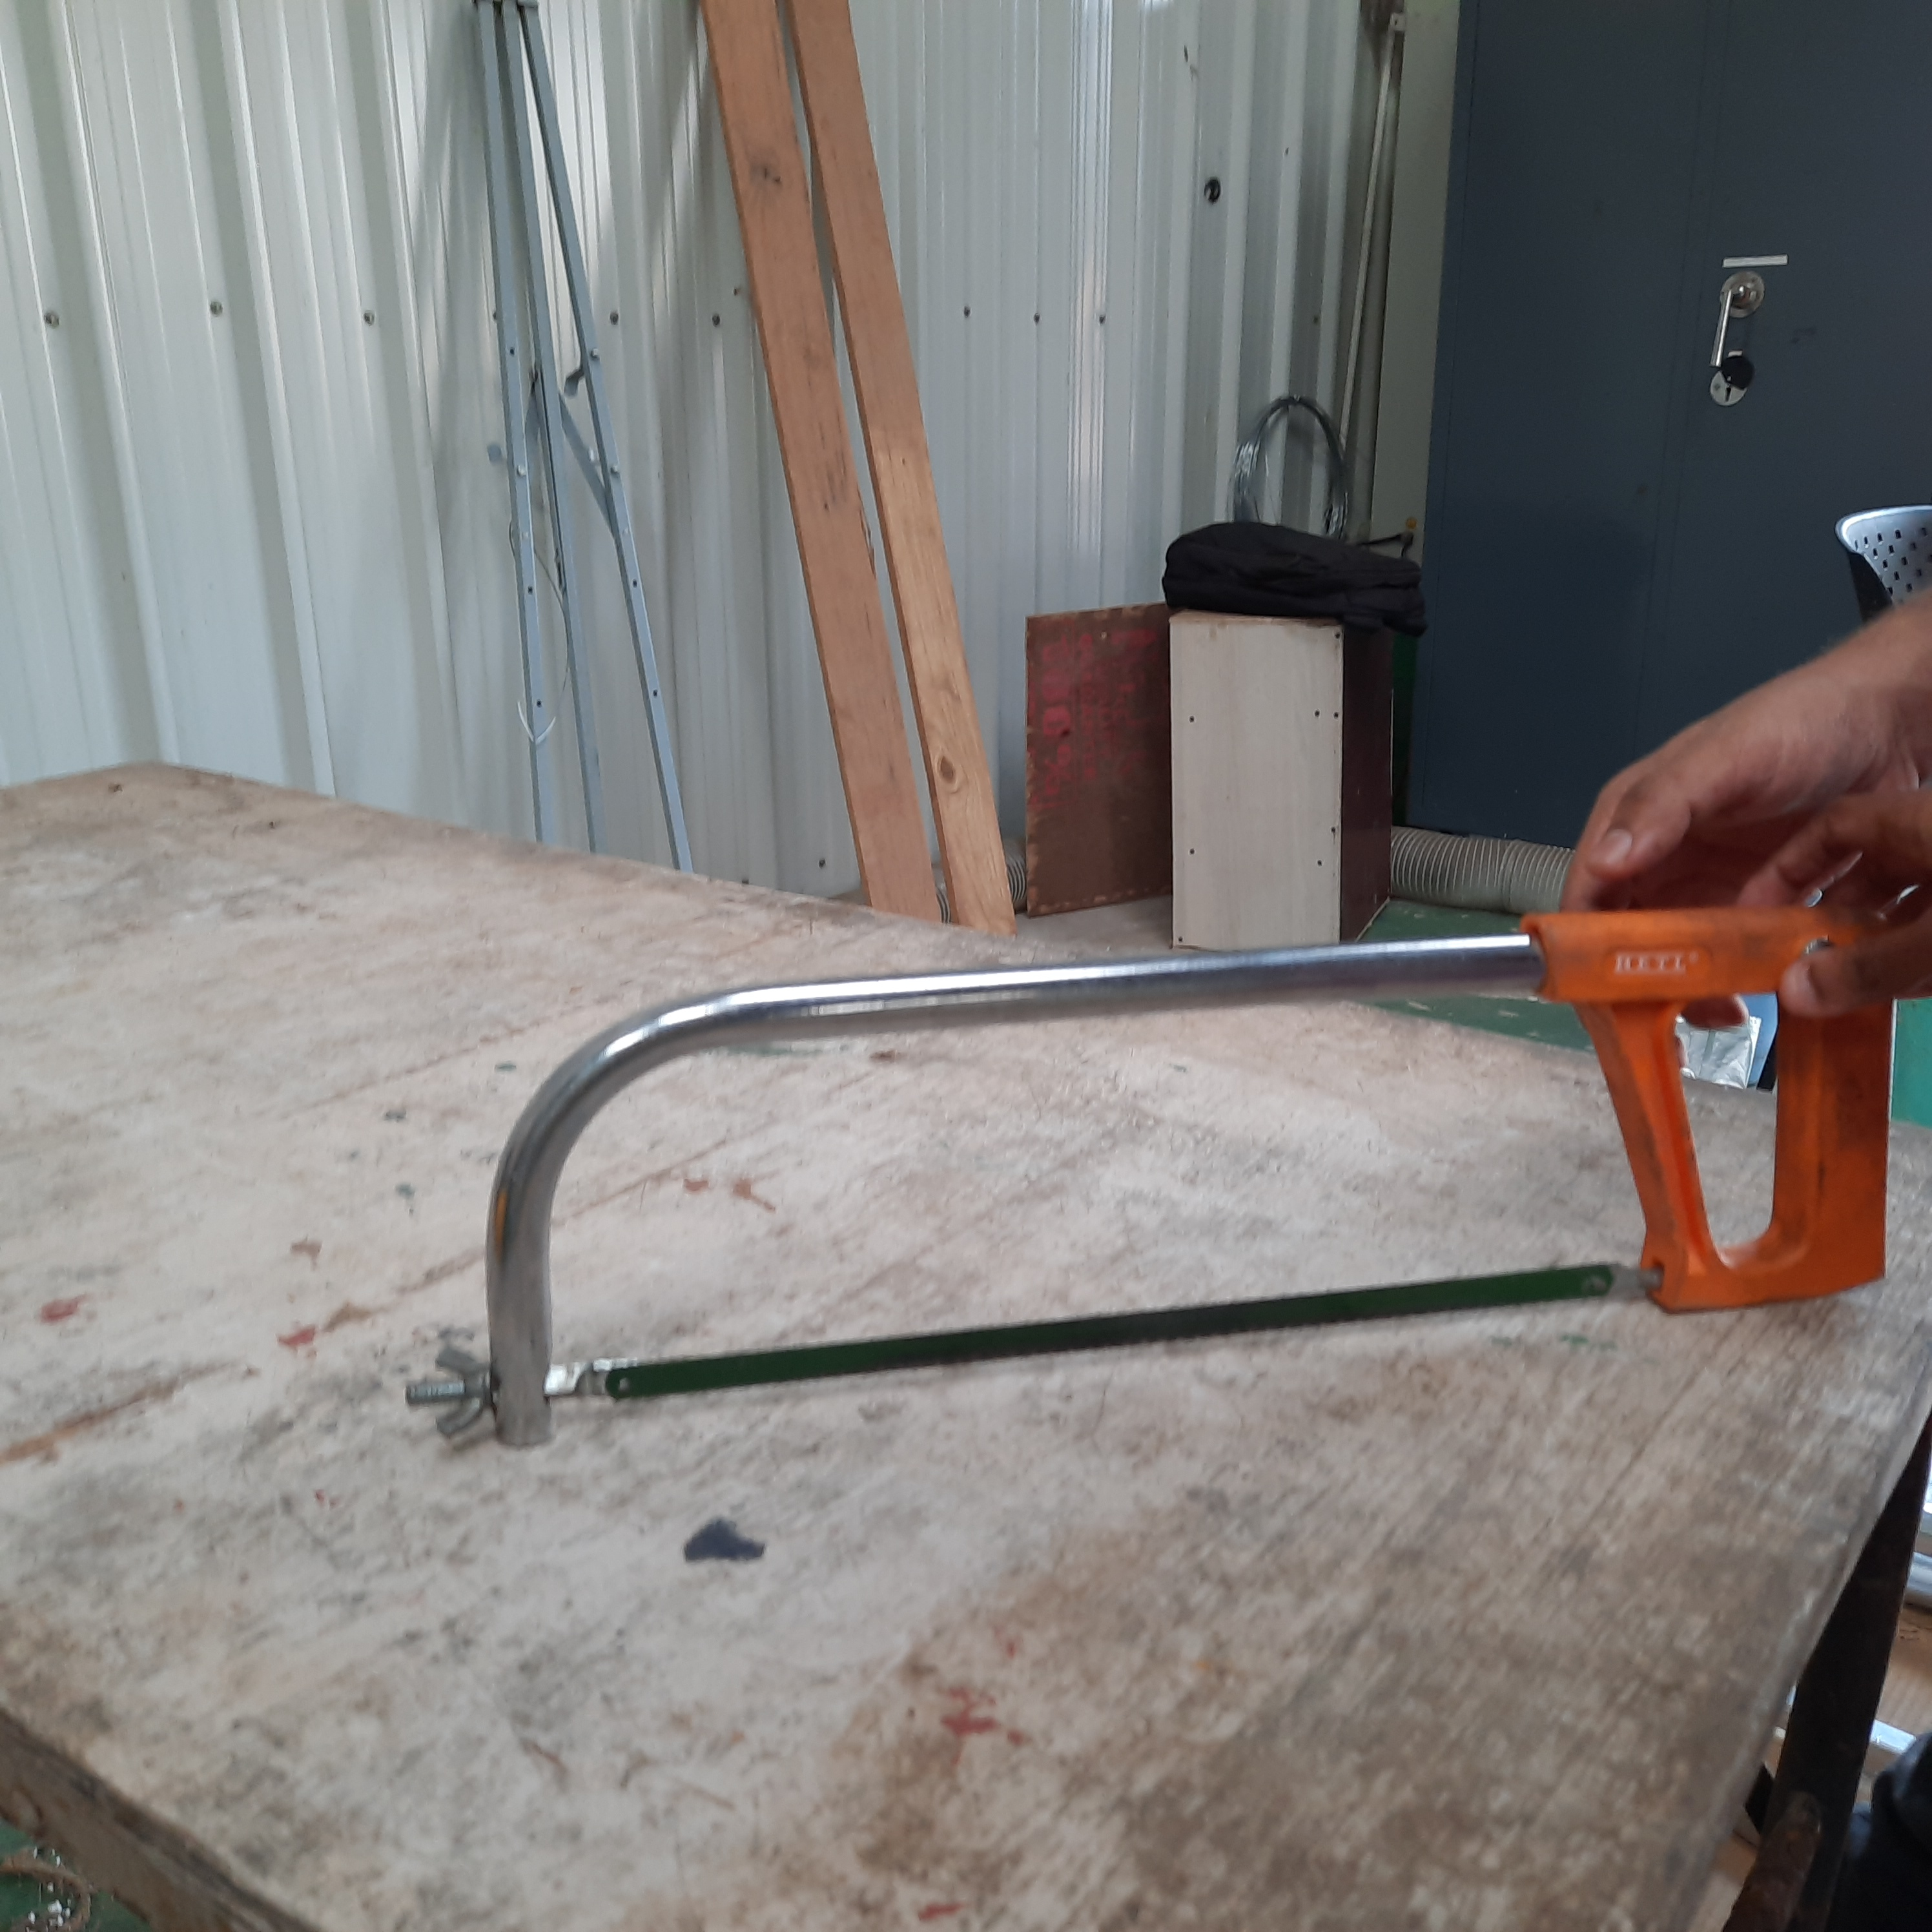Hexaframe: (384, 939, 1898, 1444)
